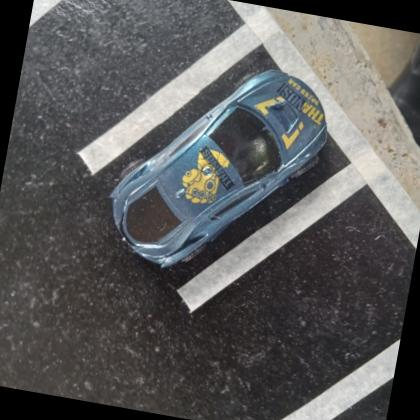Car: (108, 68, 329, 271)
